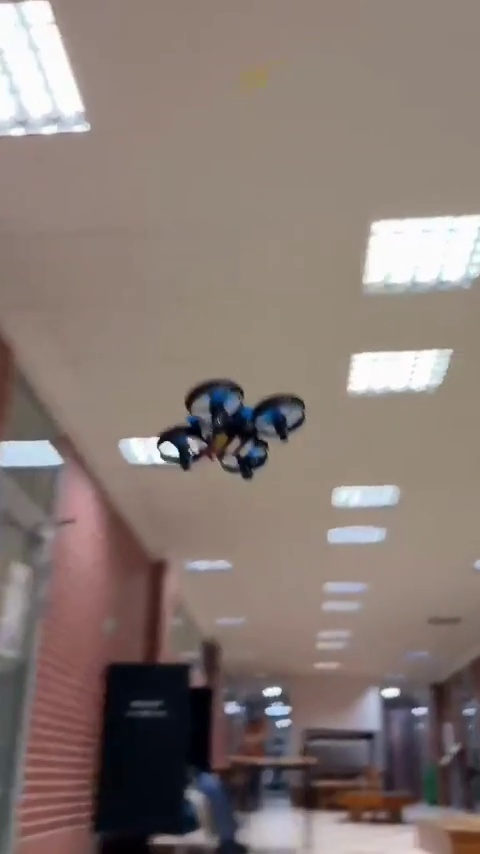drone: (155, 376, 307, 478)
